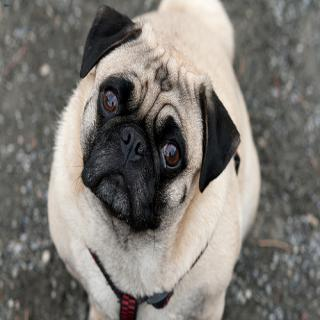dog: (47, 1, 268, 320)
